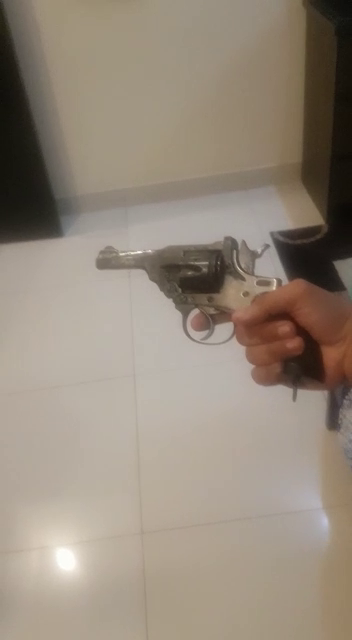handgun: (78, 230, 337, 413)
